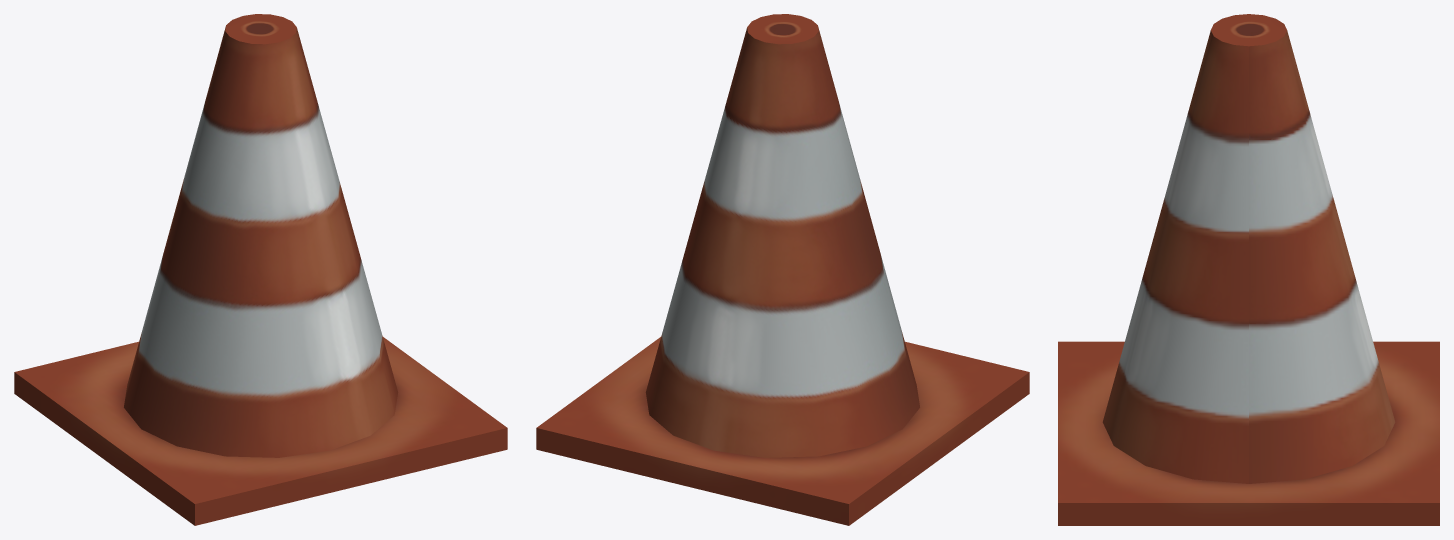
File: safecorn.FBX
The picture shows the model from 3 angles, left to right: view 1: azimuth 30°, elevation 25°; view 2: azimuth 150°, elevation 25°; view 3: azimuth 270°, elevation 25°; orthographic projection. The views are drawn at different scales.
Parts seen in each view (by area): view 1: safe_corn; view 2: safe_corn; view 3: safe_corn.
Boxes of the visible parts, bbox=[...] form: safe_corn: bbox=[14, 14, 507, 525]; safe_corn: bbox=[536, 14, 1029, 525]; safe_corn: bbox=[1058, 14, 1439, 525].
Bounding box in the file's own units: 150 × 180 × 150.
Materials: 1 (1 with a texture image).
